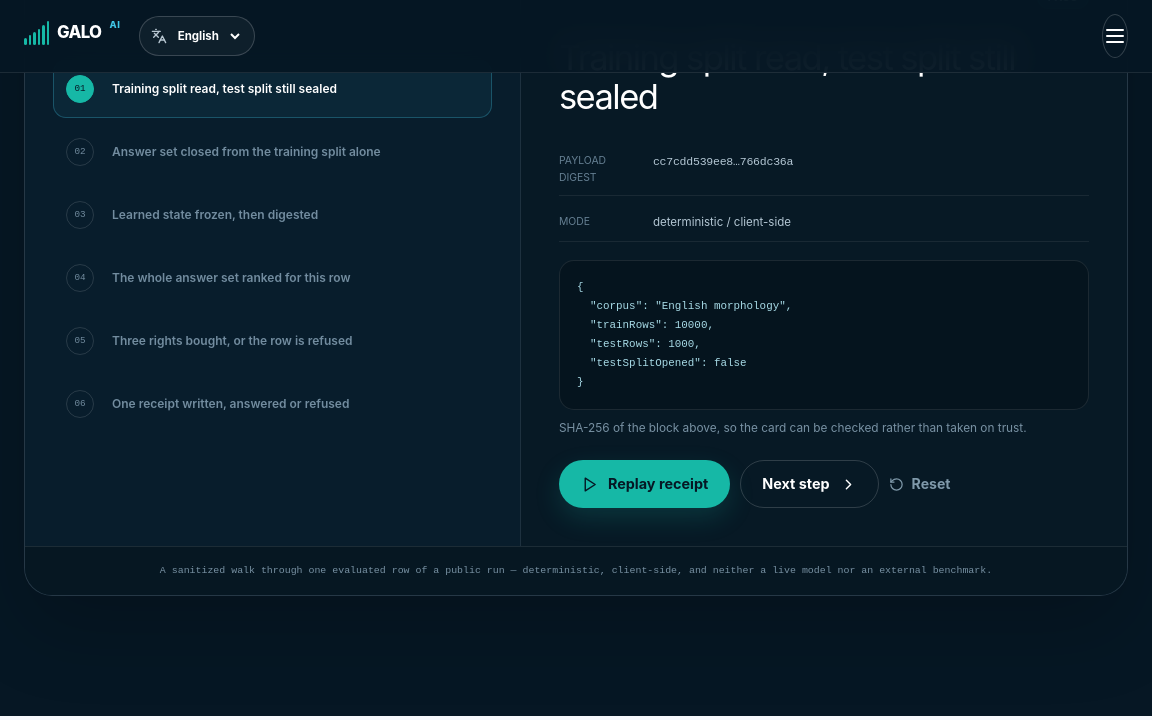
Test case: GALO public site › replays the receipt deterministically
(page scrolled)
Expected: the heading "Training split read, test split still sealed" is shown, top-left (559, 39), bottom-right (1079, 117)
Click the button with aria-label "Show step 6".
click(272, 404)  # box top-left (53, 375), bottom-right (492, 433)
(page scrolled)
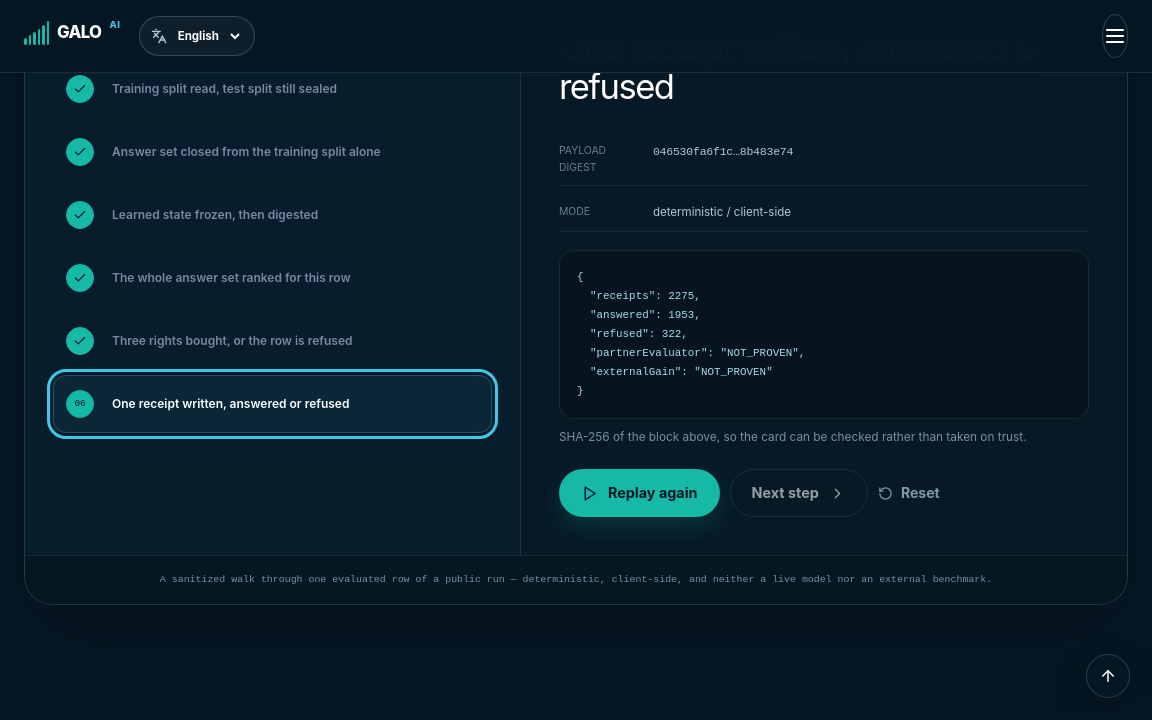
Expected: the heading "One receipt written, answered or refused" is shown, top-left (559, 29), bottom-right (1079, 107)
Click the button "Reset".
click(909, 493)  # box top-left (878, 471), bottom-right (940, 515)
(page scrolled)
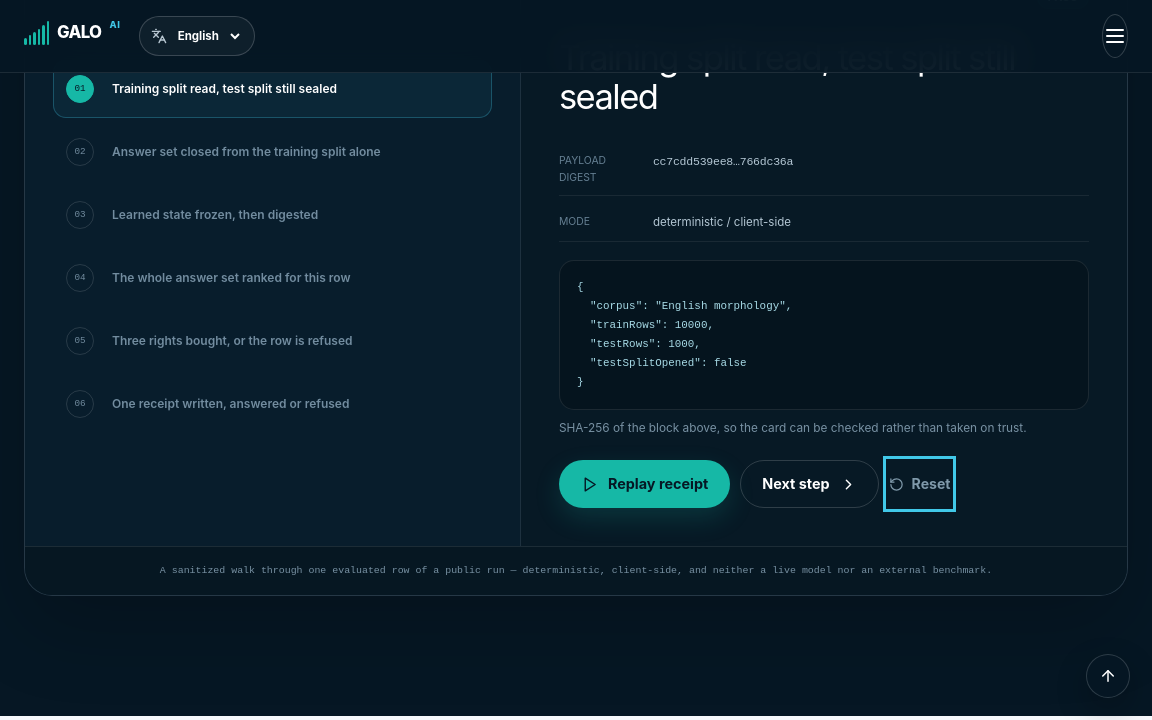
Expected: the heading "Training split read, test split still sealed" is shown, top-left (559, 39), bottom-right (1079, 117)
